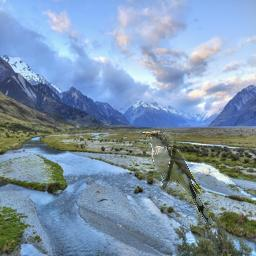Cuckoo: (140, 130, 213, 227)
